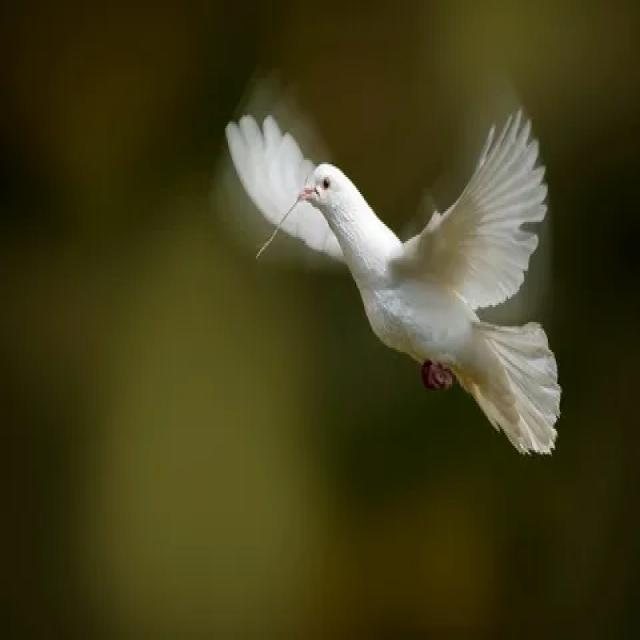pigeon: (217, 91, 568, 477)
